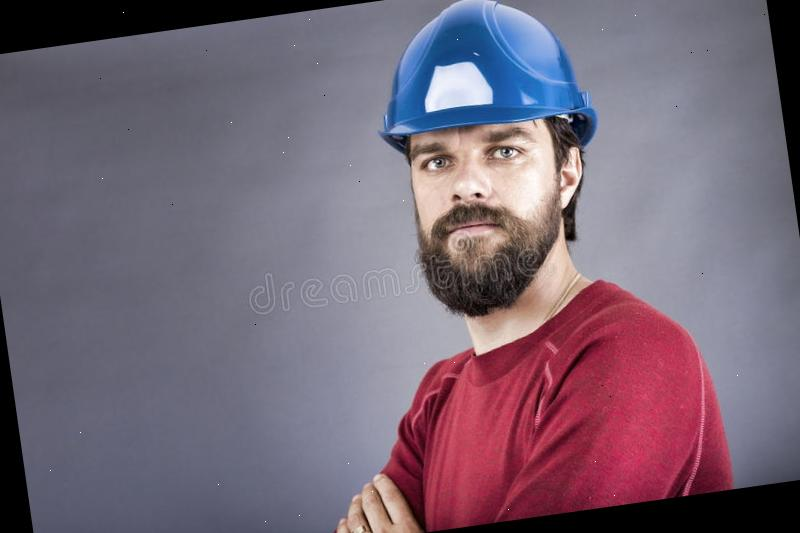helmet: (360, 0, 600, 150)
no_wear: (242, 285, 730, 533)
